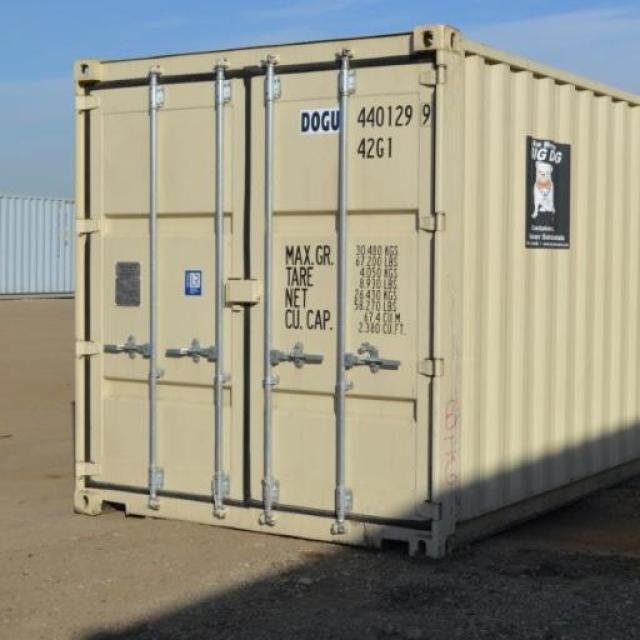ISO: (359, 134, 399, 160)
container_number: (300, 104, 430, 128)
